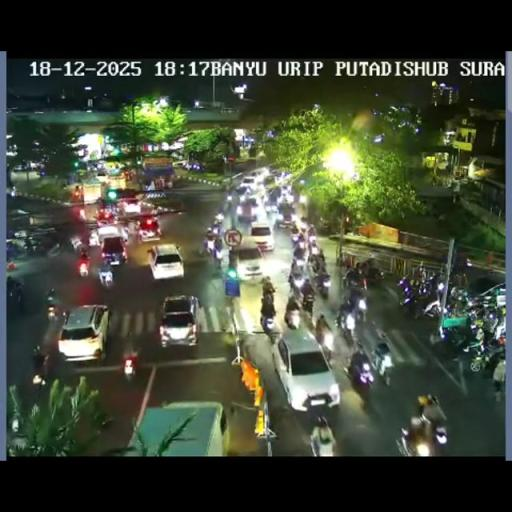Car: (126, 400, 226, 456), (271, 328, 338, 410), (56, 304, 110, 362), (159, 294, 200, 347), (148, 243, 184, 280), (234, 246, 265, 280), (248, 222, 274, 252), (101, 236, 127, 266), (118, 197, 154, 218), (137, 215, 162, 242), (237, 198, 258, 224), (238, 176, 258, 194), (252, 168, 270, 186), (97, 208, 114, 222)
Motorcycle: (283, 199, 330, 314), (395, 408, 447, 456), (464, 290, 505, 338), (434, 320, 476, 365), (338, 289, 368, 330), (398, 280, 428, 318), (372, 338, 394, 382), (348, 350, 374, 386), (6, 413, 28, 454), (442, 289, 471, 320), (486, 346, 506, 389), (310, 421, 336, 454), (260, 294, 277, 338), (315, 316, 333, 354), (288, 268, 306, 298), (344, 264, 364, 290), (122, 350, 138, 380), (314, 269, 331, 297), (426, 272, 444, 298), (363, 266, 385, 287), (30, 366, 46, 392), (284, 308, 301, 330), (410, 262, 425, 286), (301, 289, 315, 314), (46, 239, 64, 258), (451, 270, 468, 290), (278, 186, 294, 207), (471, 326, 486, 348), (98, 267, 114, 287), (210, 216, 224, 238), (212, 244, 224, 269), (261, 276, 276, 296), (278, 215, 296, 231), (266, 198, 280, 218), (100, 412, 114, 430), (290, 231, 302, 249), (78, 256, 88, 277), (228, 248, 238, 269), (308, 238, 320, 255), (293, 245, 305, 262), (88, 230, 100, 246), (206, 237, 216, 256), (25, 237, 36, 254), (310, 254, 320, 272), (120, 223, 130, 241), (128, 219, 139, 235), (46, 305, 56, 321), (306, 223, 316, 239), (78, 245, 88, 259), (226, 193, 232, 203)
